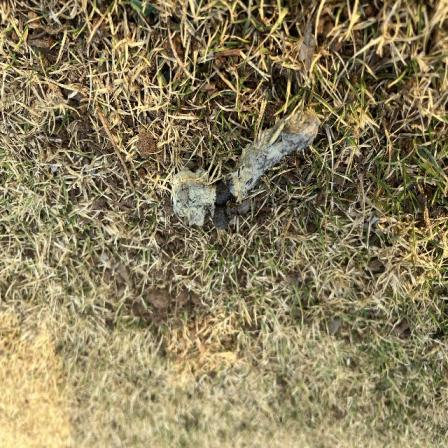dog-poop: (170, 108, 325, 238)
